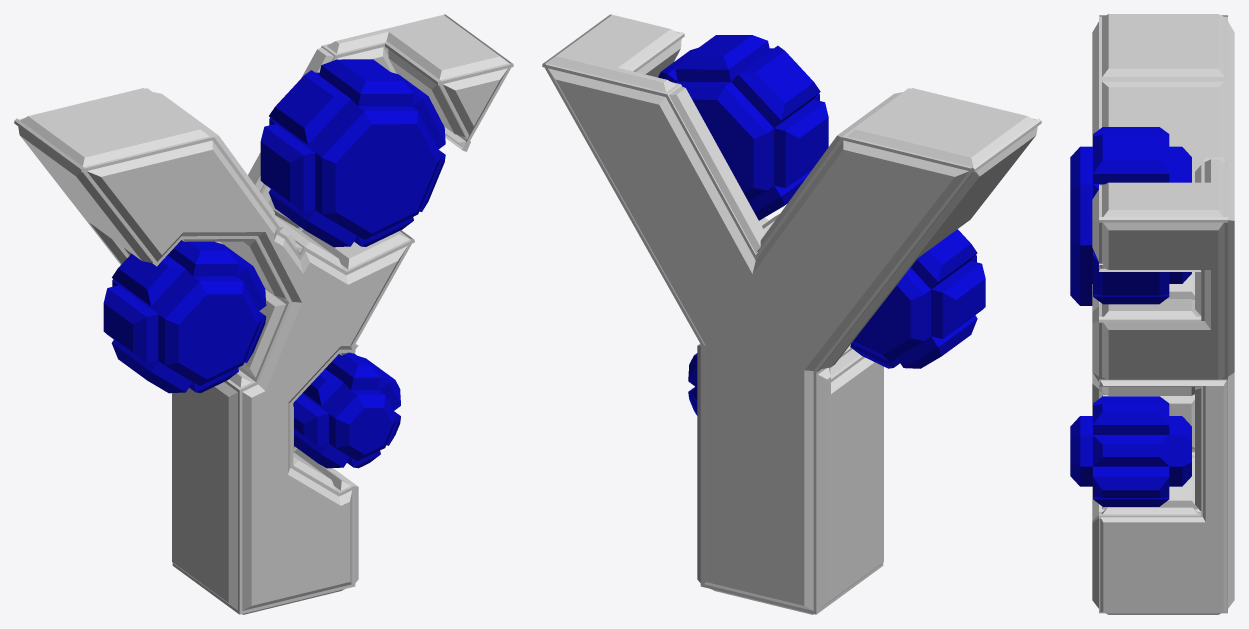
3 renders of one model, left to right at view 1: azimuth 30°, elevation 25°; view 2: azimuth 150°, elevation 25°; view 3: azimuth 270°, elevation 25°, orthographic. The views are drawn at different scales.
Parts seen in each view (by area): view 1: sphere1; view 2: sphere1; view 3: sphere1.
Part boxes in pixels (left/top/right/bottom): sphere1: left=14, top=14, right=513, bottom=614; sphere1: left=542, top=14, right=1041, bottom=614; sphere1: left=1070, top=14, right=1234, bottom=614.
Size of the model in its own units: 0.748 by 0.8381 by 0.2541.
